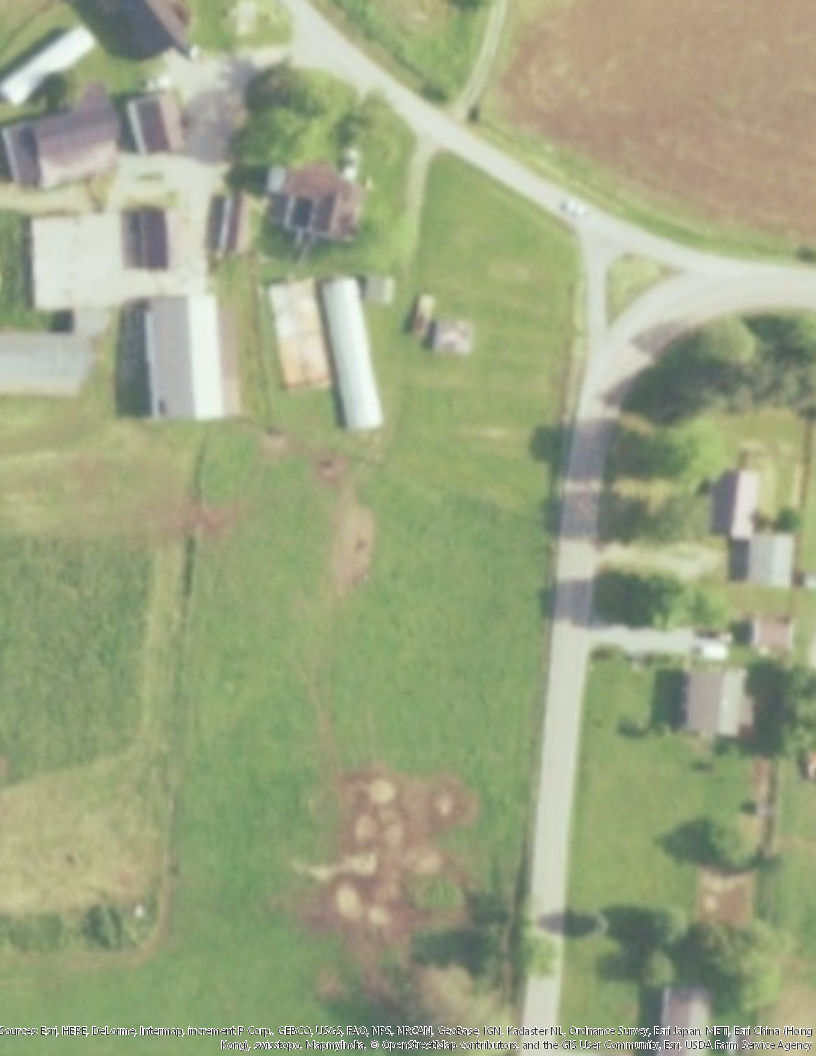cafo: (302, 273, 411, 438), (139, 284, 242, 425)
